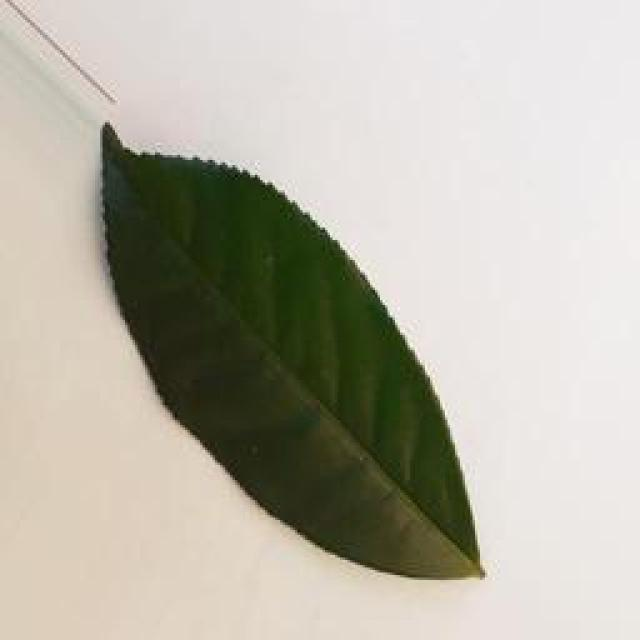Healthy: (89, 112, 489, 586)
